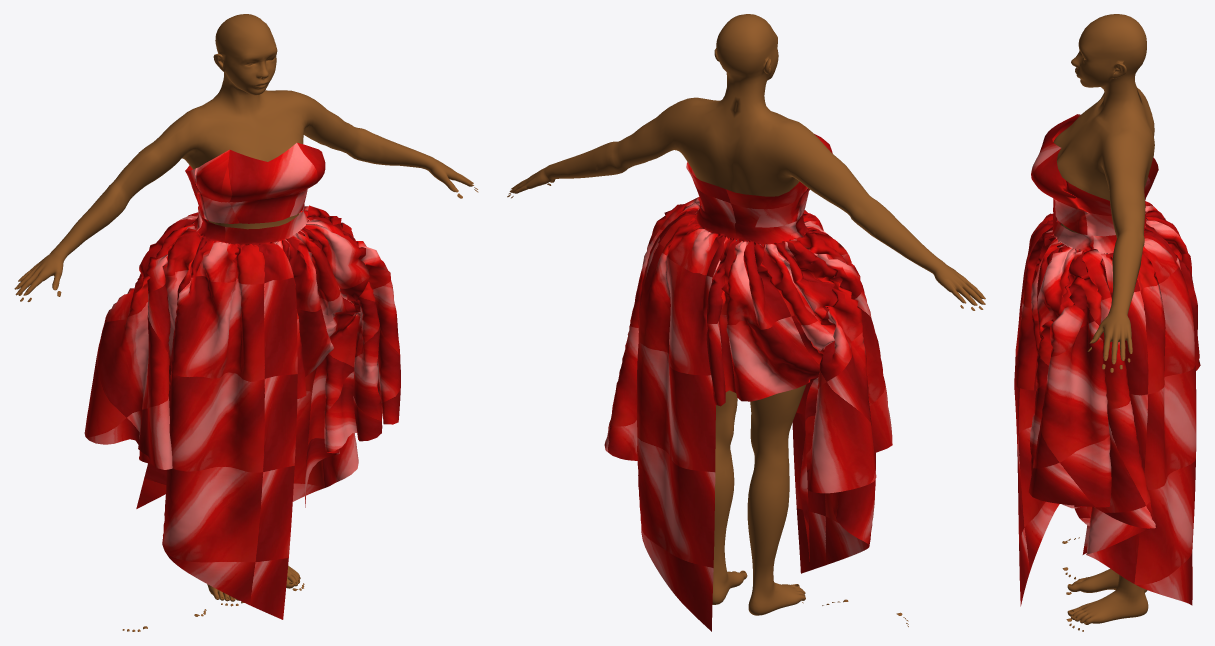
Rendered from dress2.glb.
3 views of the same model, side by side, from view 1: azimuth 30°, elevation 25°; view 2: azimuth 150°, elevation 25°; view 3: azimuth 270°, elevation 25° (orthographic). The views are drawn at different scales.
Parts seen in each view (by area): view 1: Project 1, Body.003; view 2: Project 1, Body.003; view 3: Project 1, Body.003.
Part boxes in pixels (x1,y1,x2,y2): Project 1: (84,142,400,619); Body.003: (17,14,472,601); Project 1: (604,134,892,631); Body.003: (511,14,983,615); Project 1: (1014,114,1200,606); Body.003: (1053,14,1154,624).
Bounding box in the file's own units: 1.59 × 1.87 × 0.5311.
3 materials, 1 textured.
